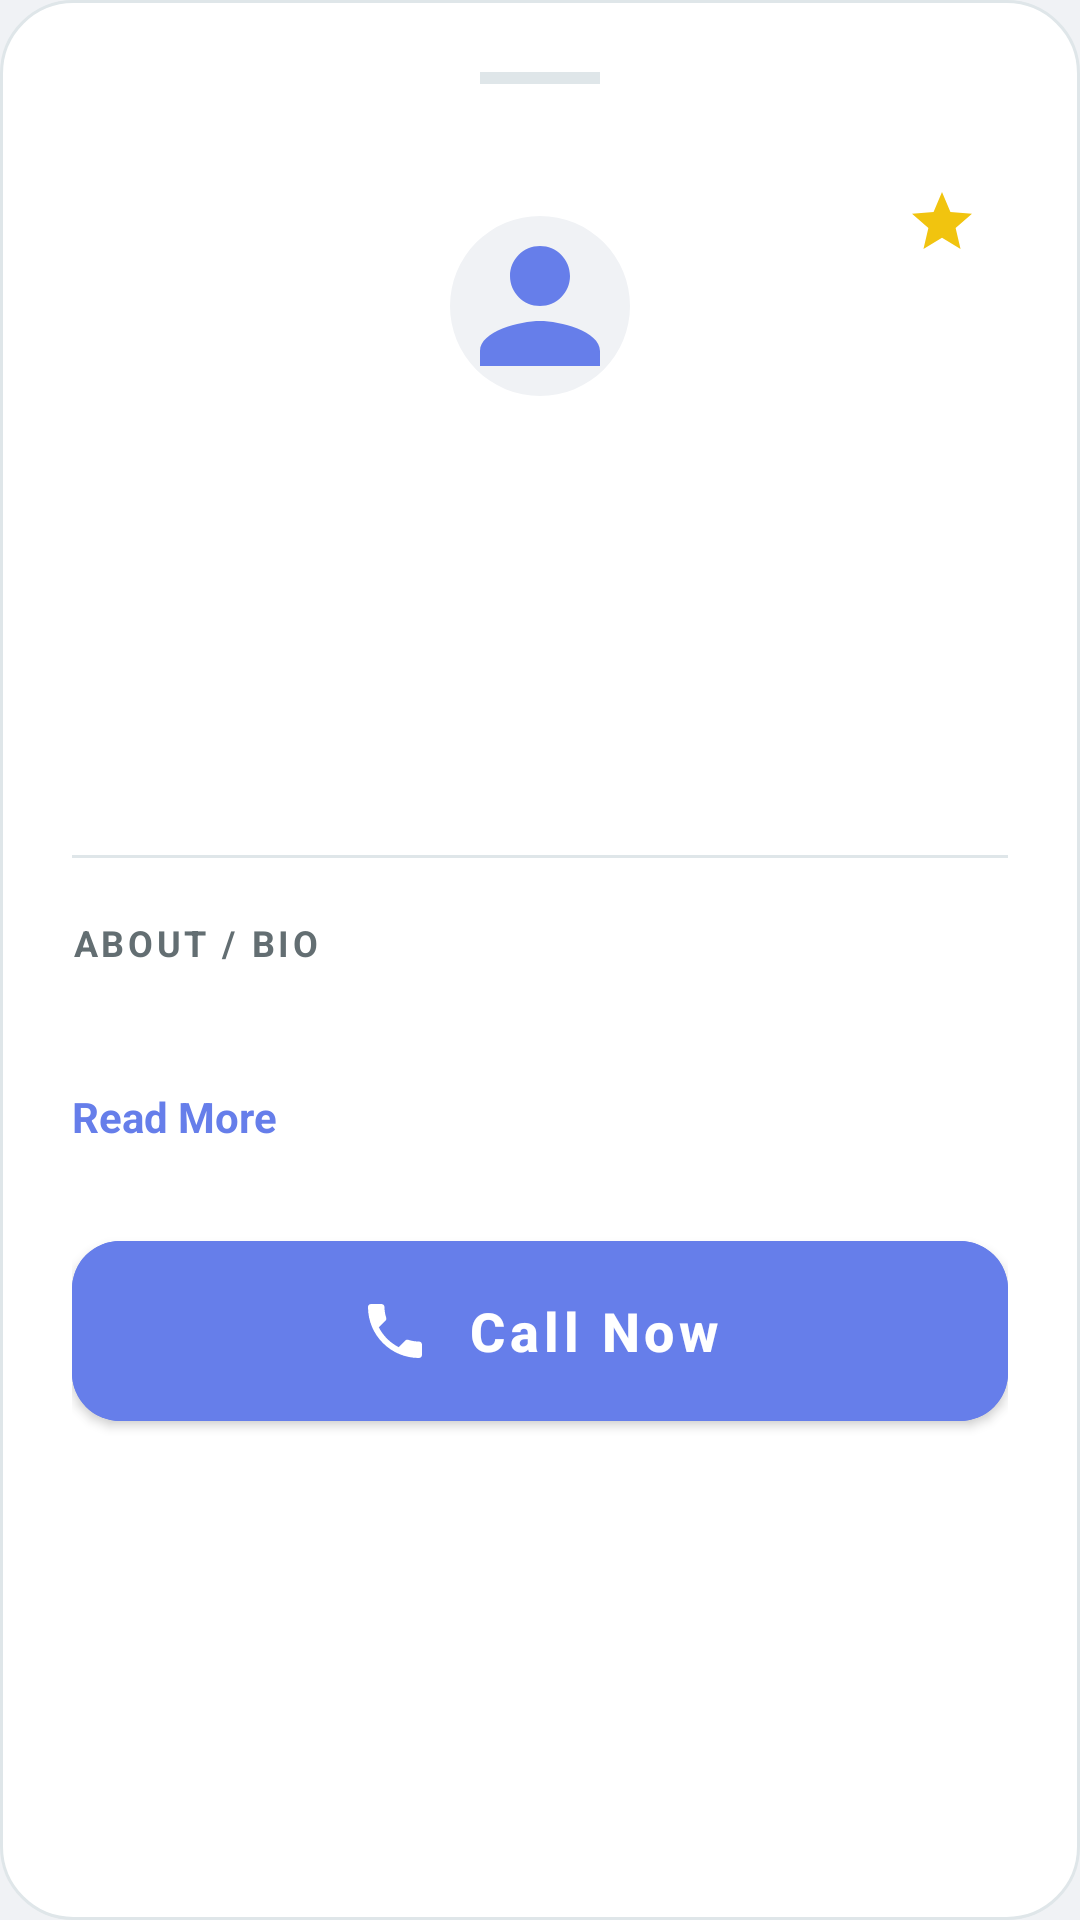

Where icons sit on this 1080px×1920px app screen, as (x1, y1, x2, y2):
person: (480, 246, 600, 366)
star: (912, 192, 972, 249)
